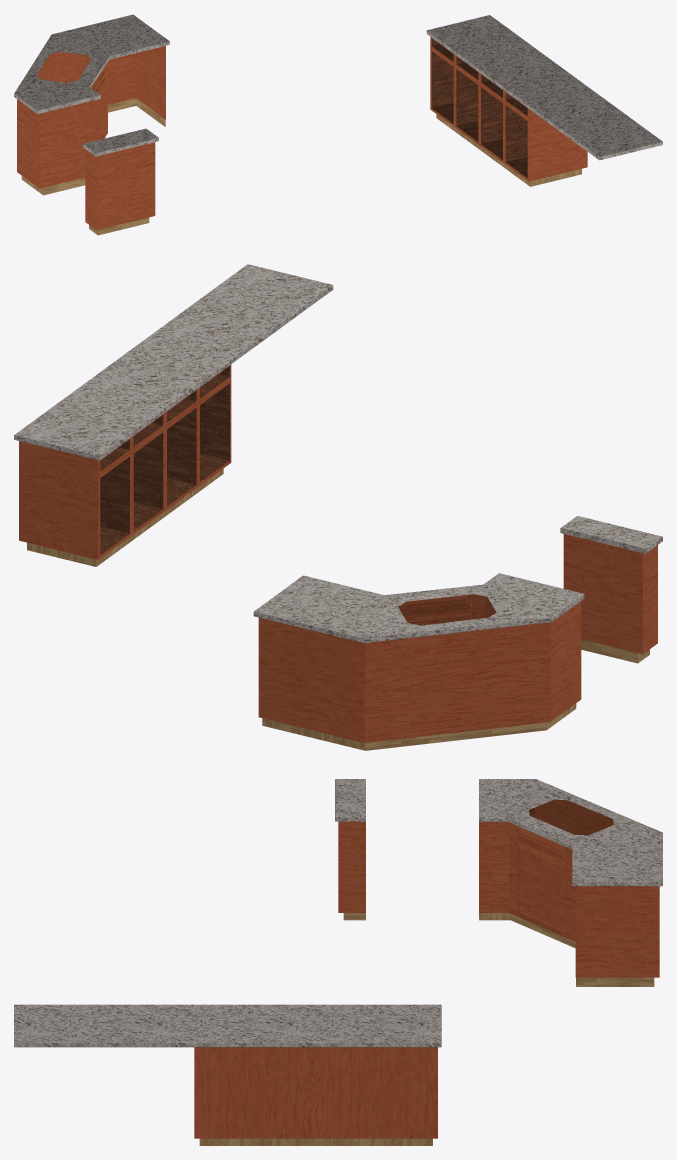
The model's file is StandardCounterHeightWidth_ddc1292f.obj.
3 views of the same model, one above another, from view 1: azimuth 30°, elevation 25°; view 2: azimuth 150°, elevation 25°; view 3: azimuth 270°, elevation 25° (orthographic). The views are drawn at different scales.
Parts seen in each view (by area): view 1: StandardCounterHeightWidth_ddc1292f; view 2: StandardCounterHeightWidth_ddc1292f; view 3: StandardCounterHeightWidth_ddc1292f.
Boxes of the visible parts, x1,y1,x2,y2 form: StandardCounterHeightWidth_ddc1292f: [14, 14, 662, 235]; StandardCounterHeightWidth_ddc1292f: [14, 264, 662, 750]; StandardCounterHeightWidth_ddc1292f: [14, 779, 662, 1145].
Bounding box in the file's own units: 4.76 × 0.9 × 4.95.
